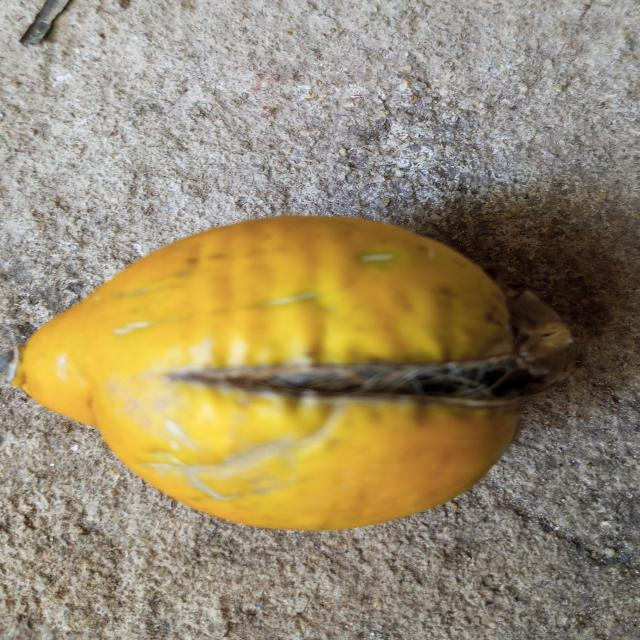damaged: (13, 215, 570, 535)
